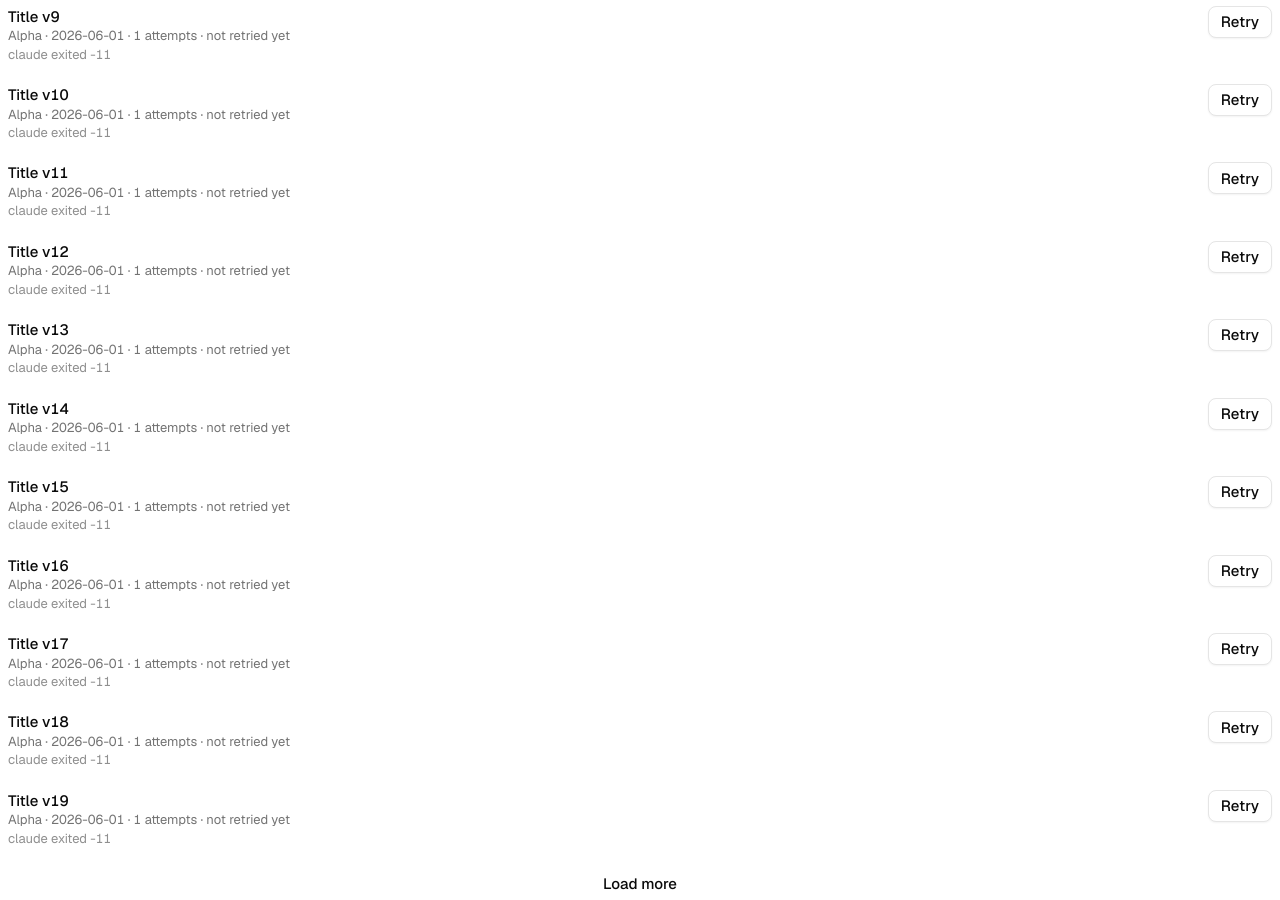
Test: FailedVideosList › loads a second page and keeps rows from both pages on screen
(page scrolled)
Click the button "Load more" at (640, 884), box 591,868 -> 689,899
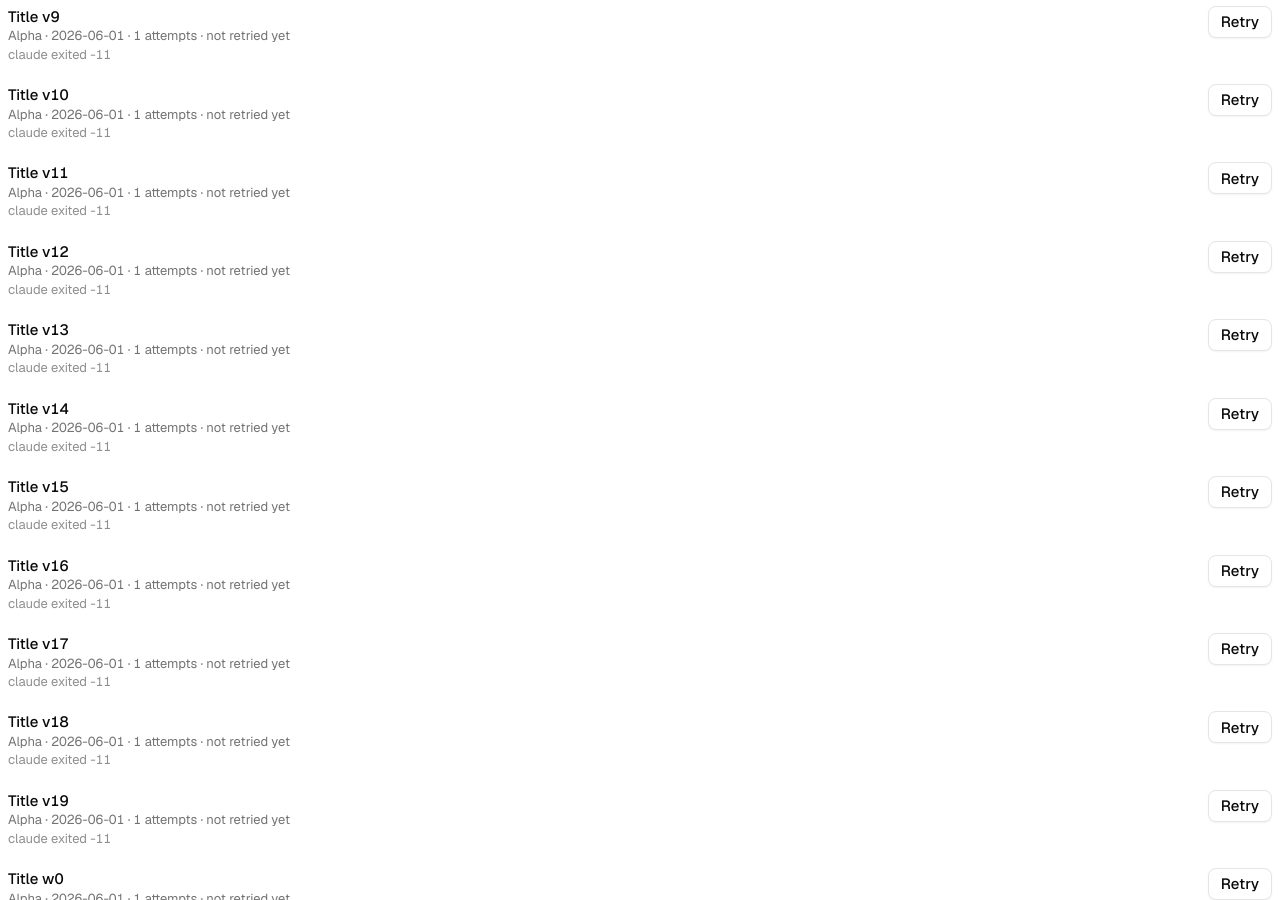
Expected: the link "Title v19" is shown, 8,791 -> 69,810
Expected: the link "Title w0" is shown, 8,869 -> 64,888
Expected: the button "Load more" is gone
